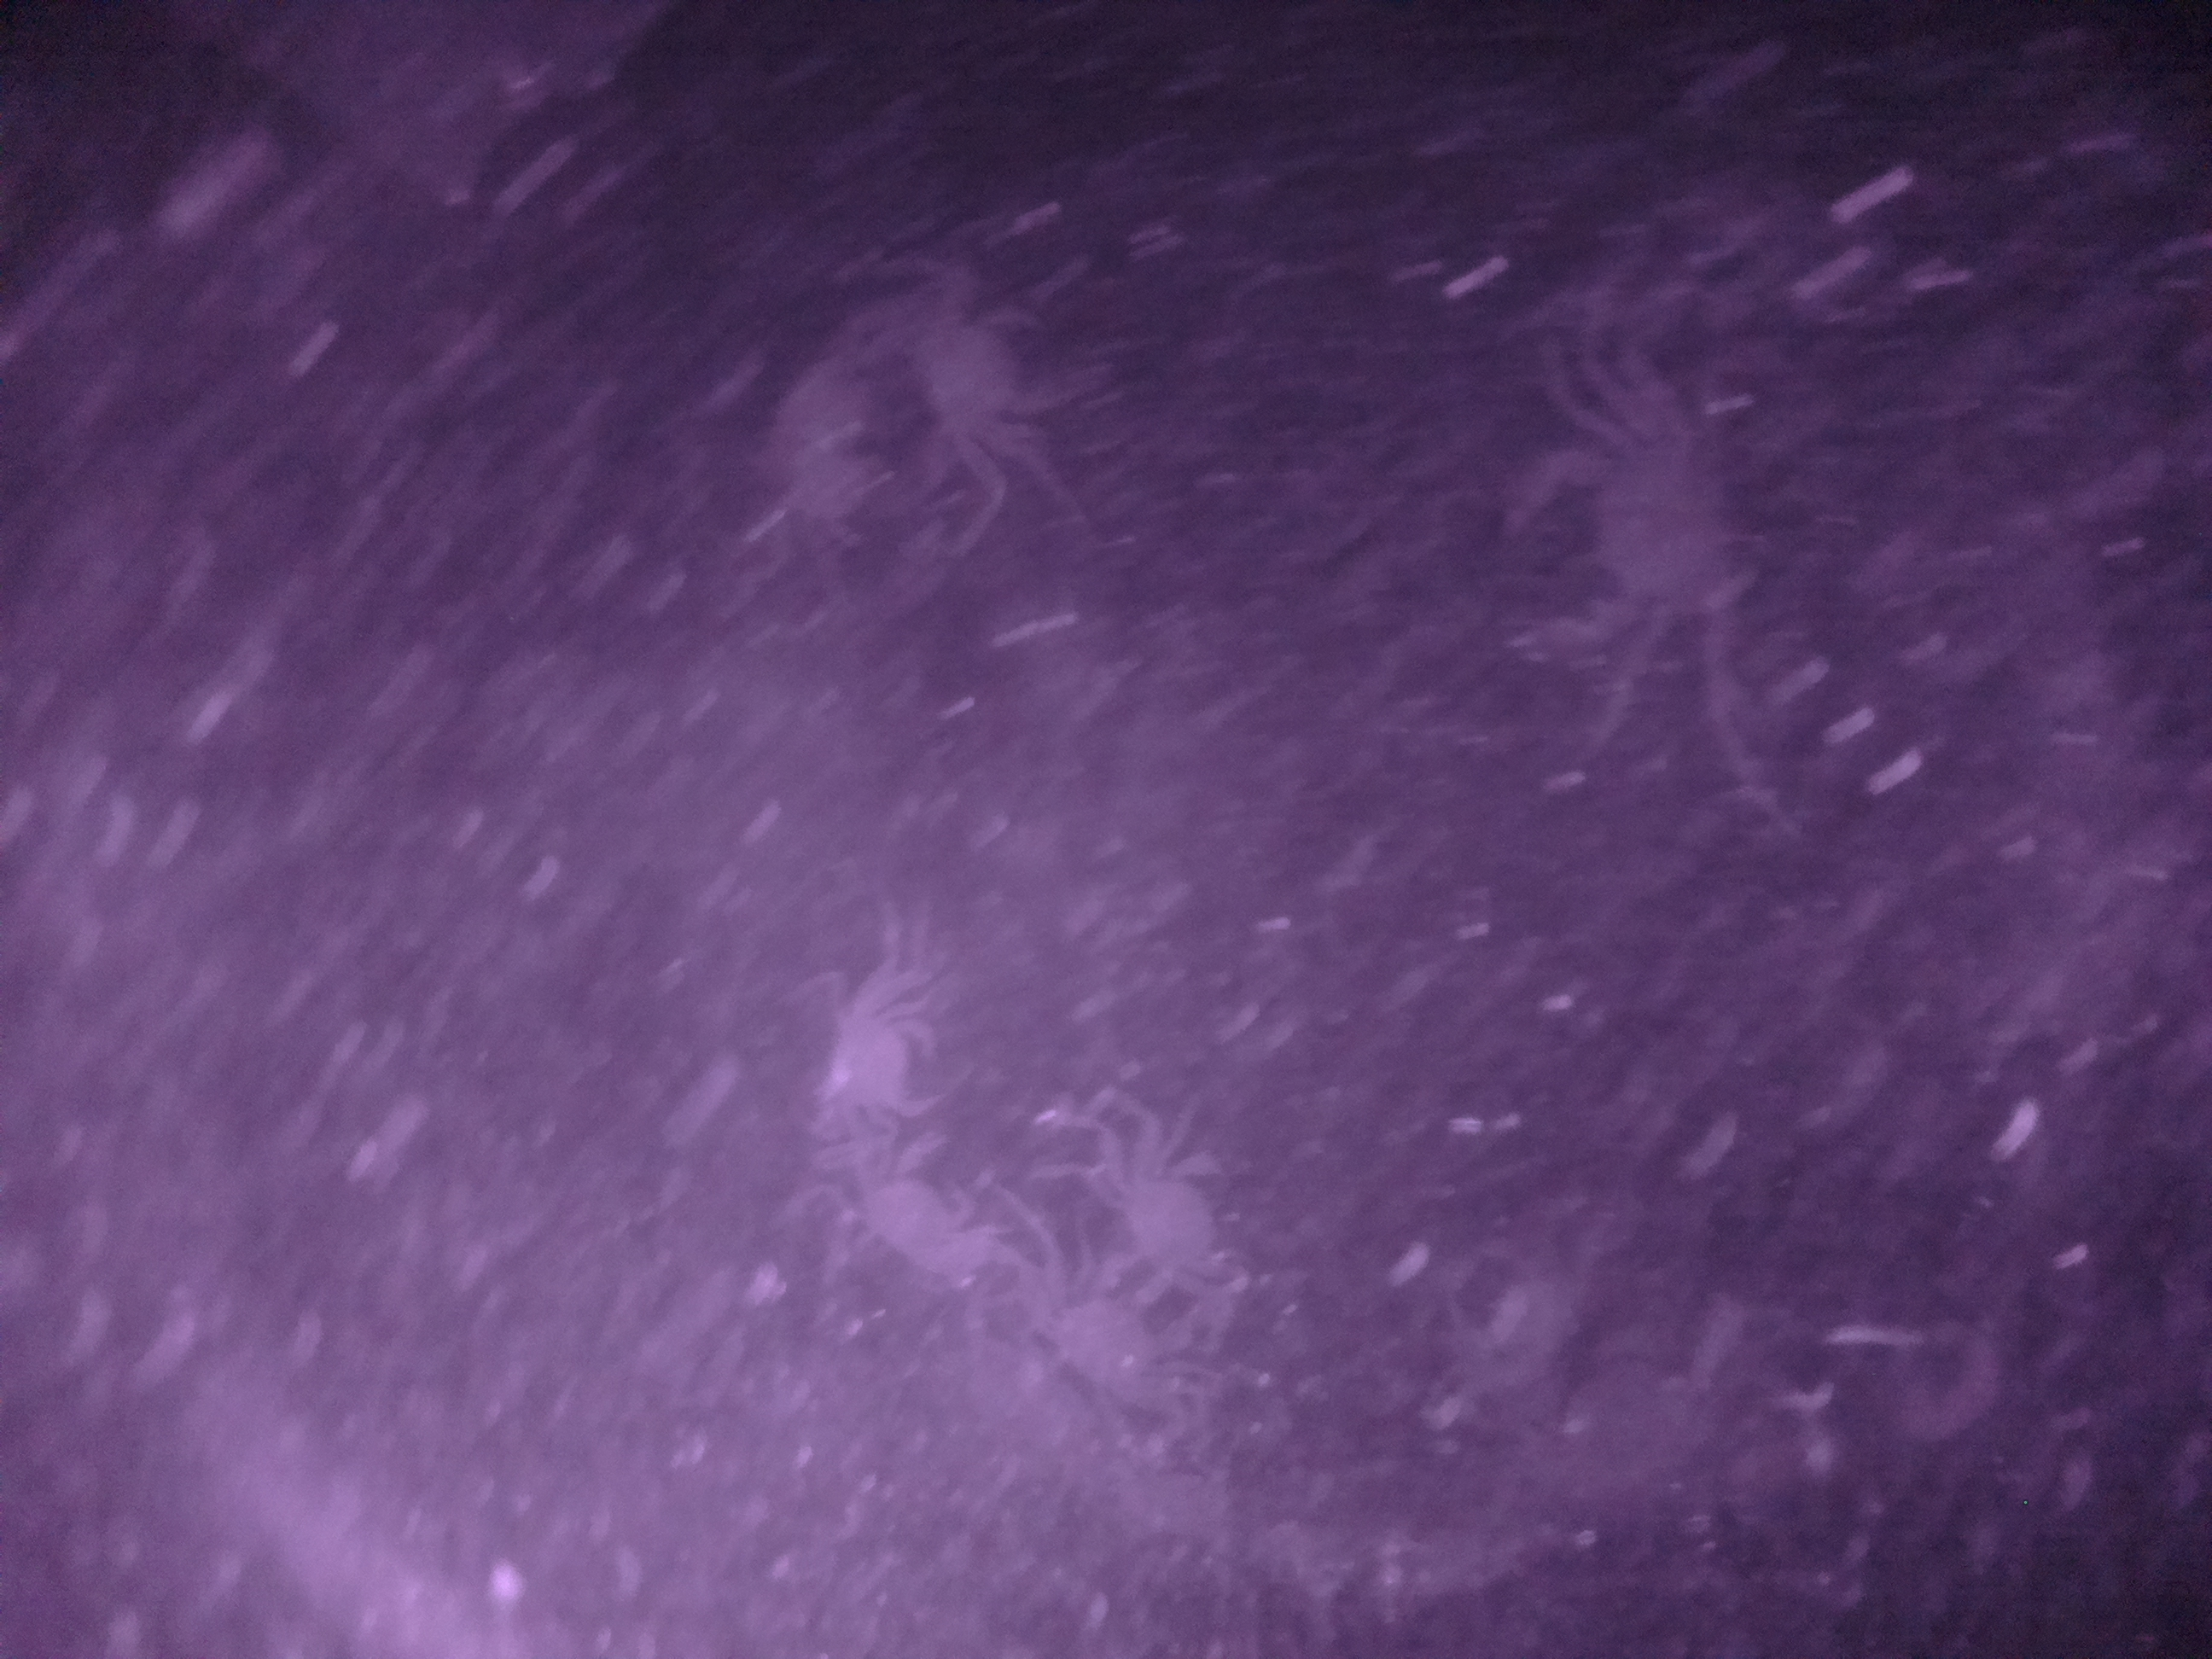Crab: (1047, 1087, 1271, 1342), (815, 943, 958, 1157)
